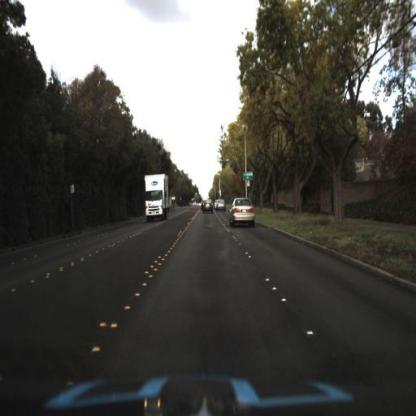car: (229, 191, 256, 233), (213, 196, 230, 216), (203, 195, 216, 216), (216, 197, 227, 211)
truck: (144, 173, 172, 222)
